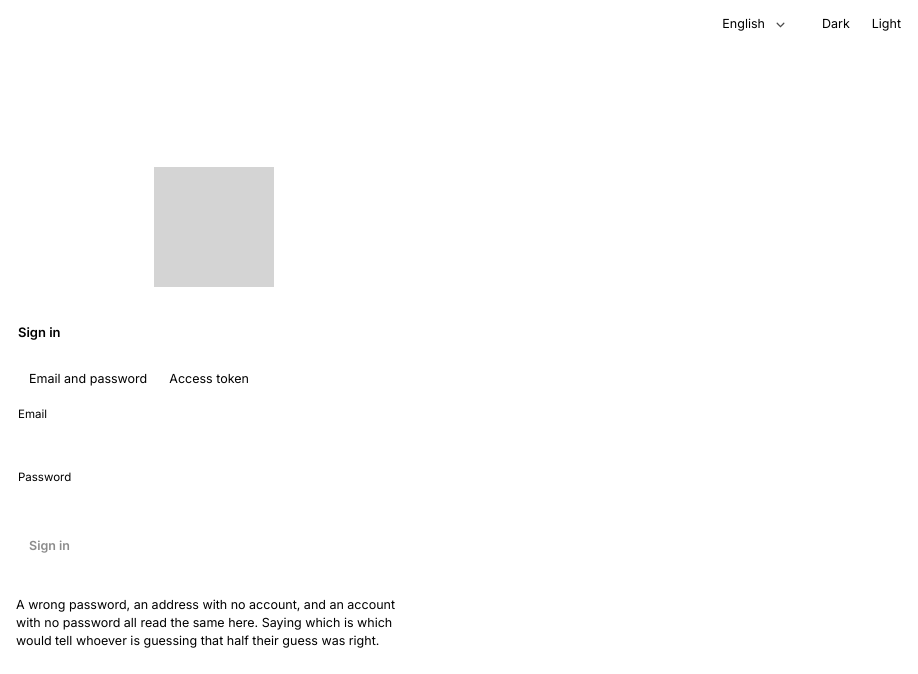
Scenario: language switchers offer every locale › switches the interface when one is chosen
Expected: the button "Sign in" is shown, [18,532,81,560]
Click the dropdown named "Interface language".
click(755, 24)  # box [713,10,797,38]
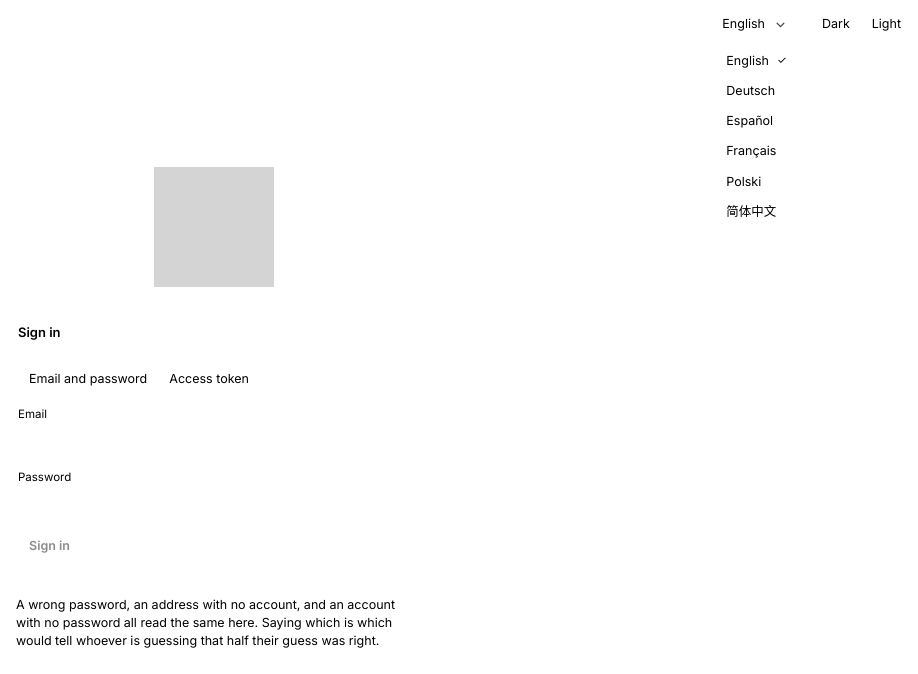
Click the option "Français".
click(756, 151)  # box [717,136,796,166]
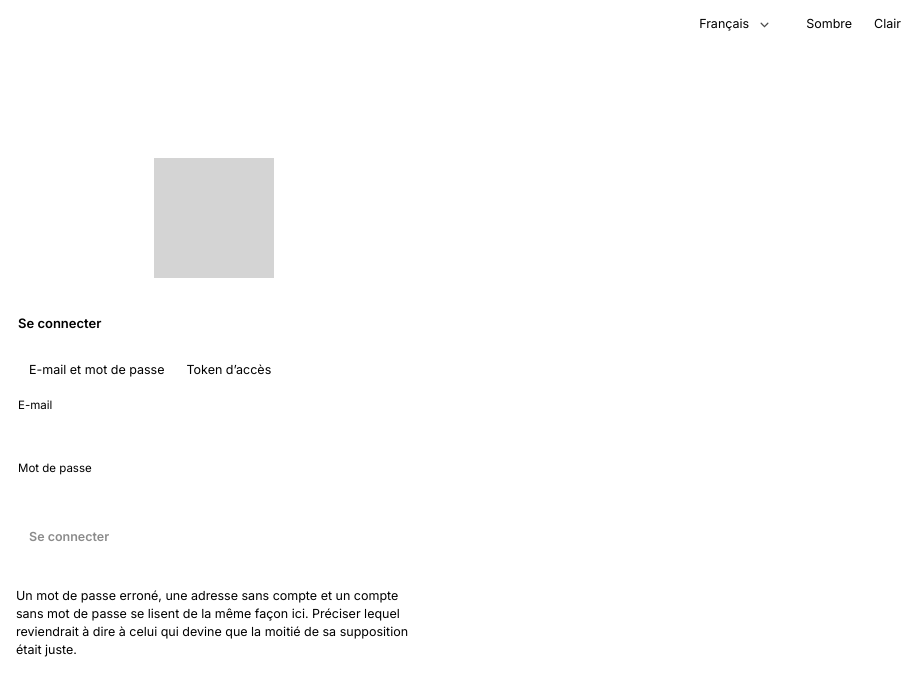
Result: the button "Se connecter" is shown at [18,523,120,551]
